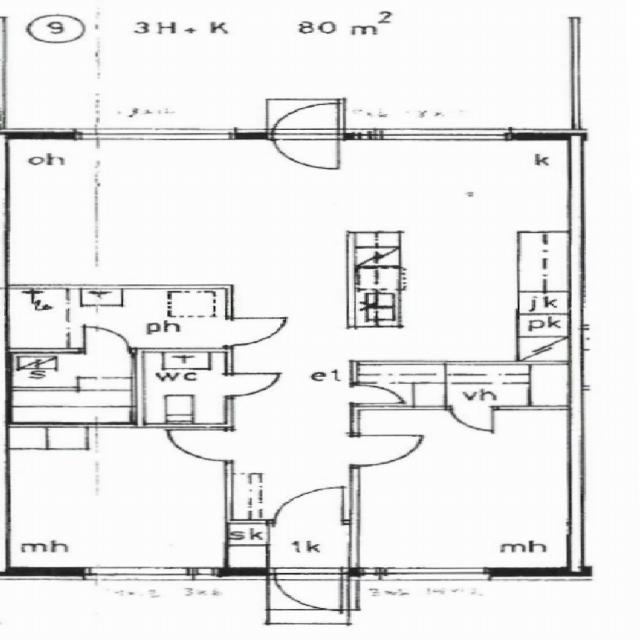door: (276, 567, 341, 612), (274, 96, 338, 138), (274, 129, 338, 171), (275, 486, 342, 523), (163, 429, 233, 460), (349, 436, 418, 466), (225, 318, 286, 345), (84, 326, 128, 352), (225, 373, 276, 395), (451, 406, 492, 430), (349, 384, 395, 403)
